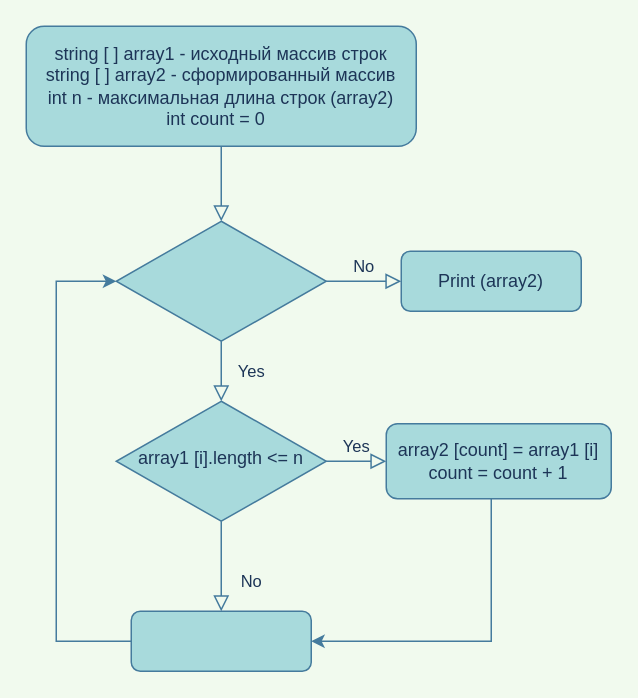
Image size: 638x698. Some labels were removed from this diagram. Each missing label, with the centre of its shape:
"i = i + 1" belongs at pixel 220 640.
"int i = 0 i < array1.length" belongs at pixel 220 280.
